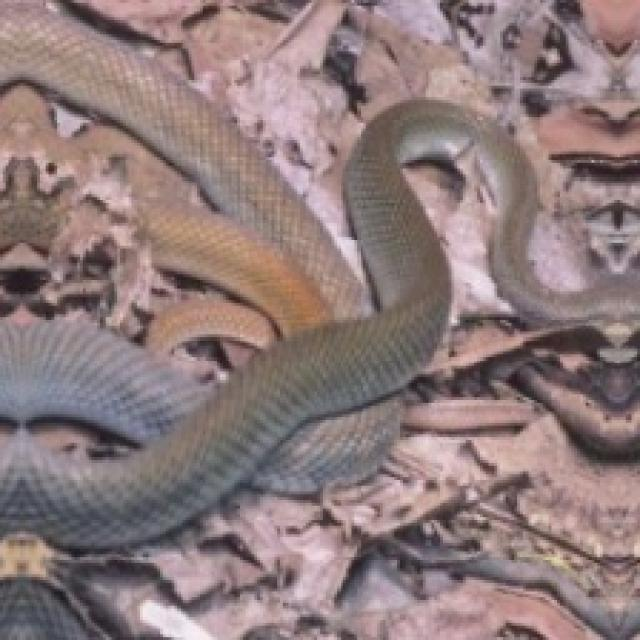reddish rat snake: (0, 4, 640, 549)
